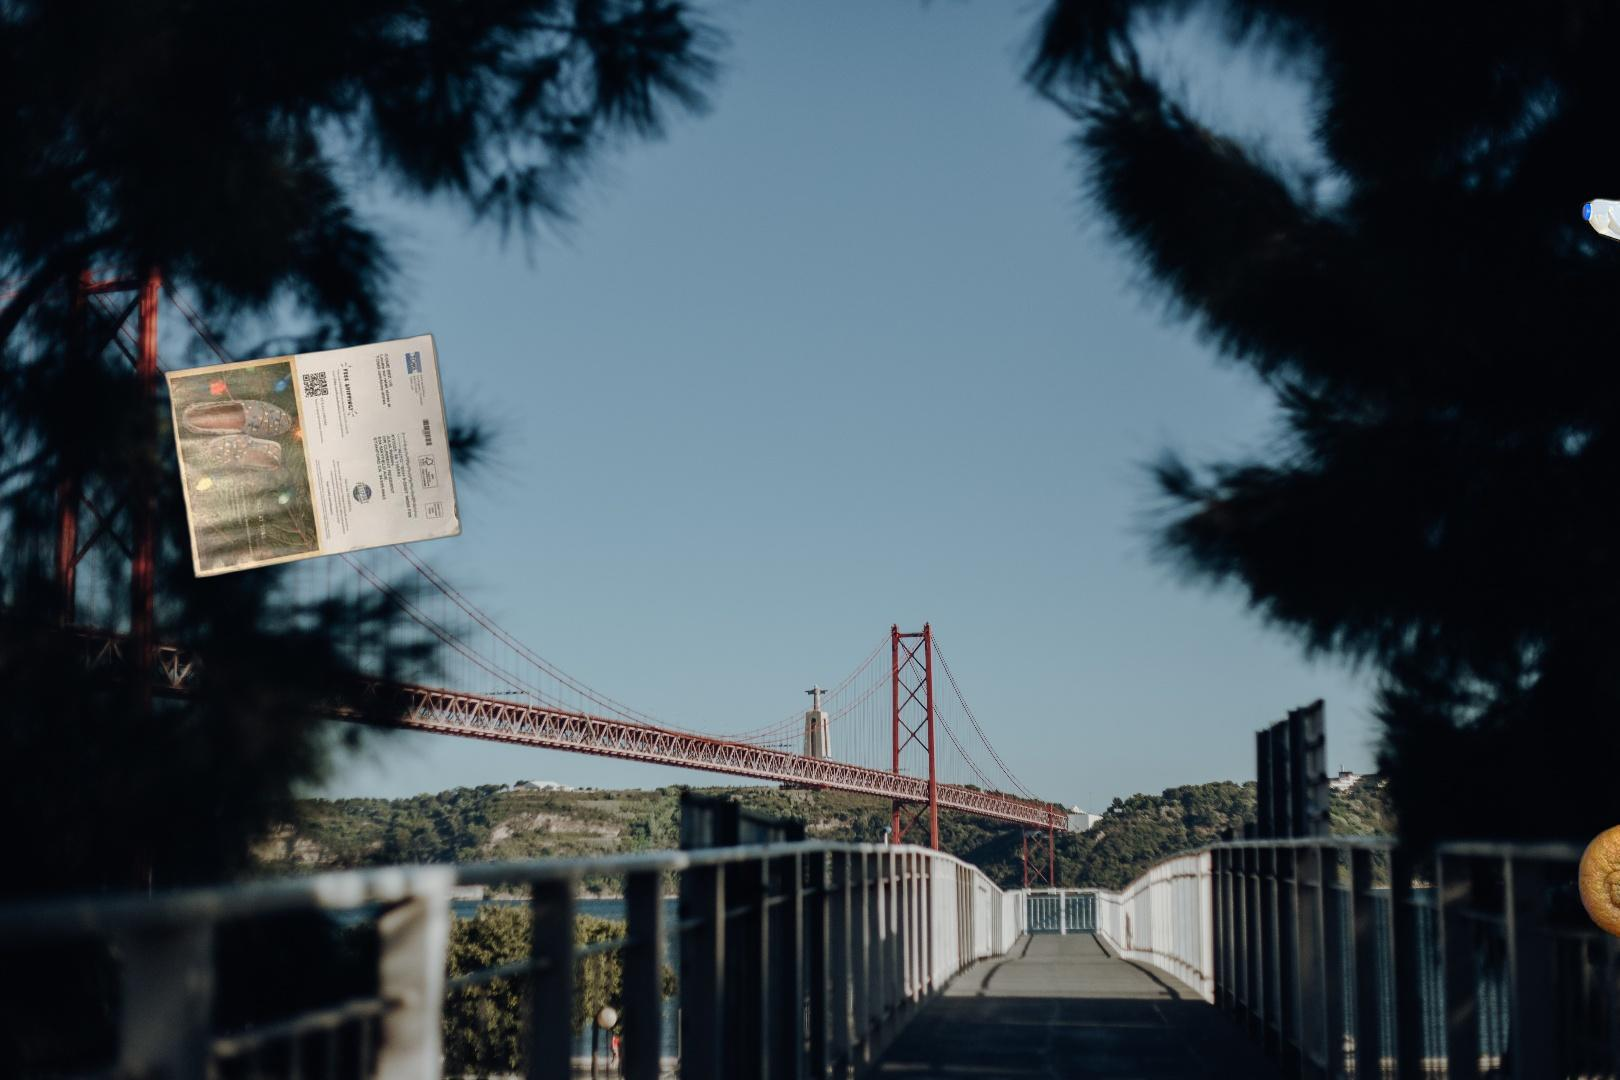biological: (1552, 808, 1620, 986)
paper: (159, 331, 465, 581)
plastic-bottles: (1567, 192, 1620, 254)
